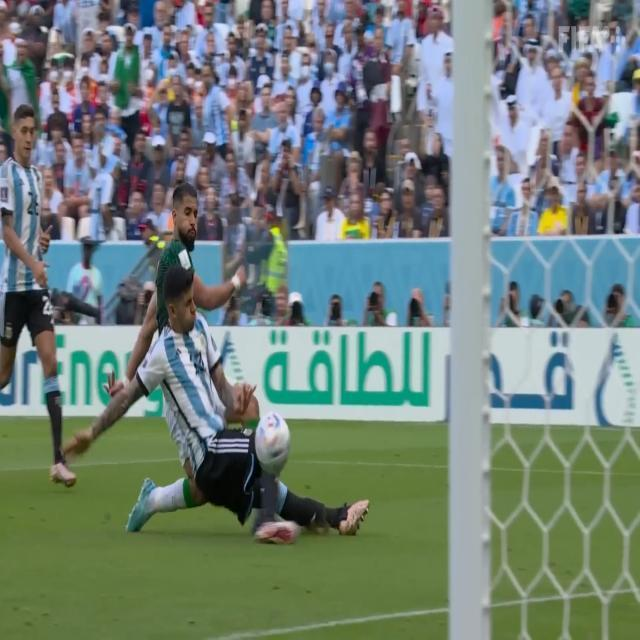football: (242, 405, 303, 479)
